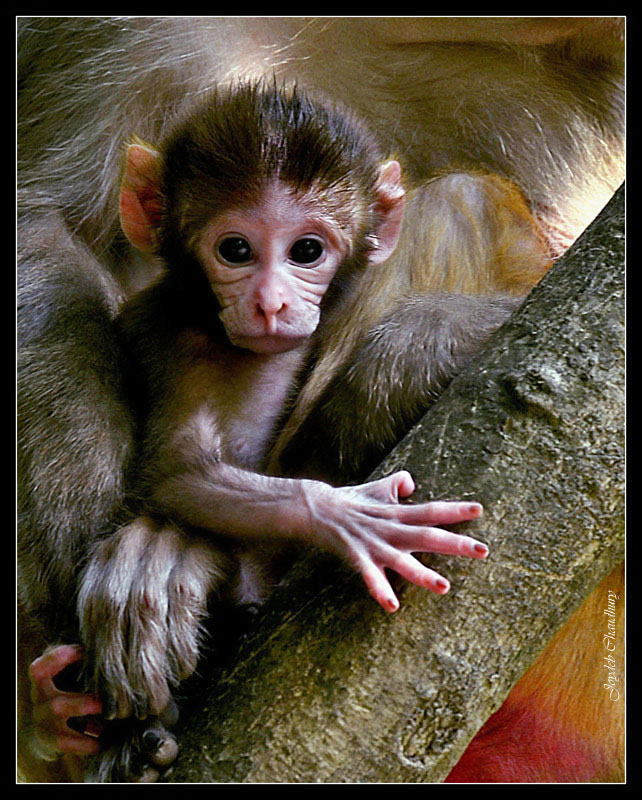monkey: (95, 80, 521, 613)
